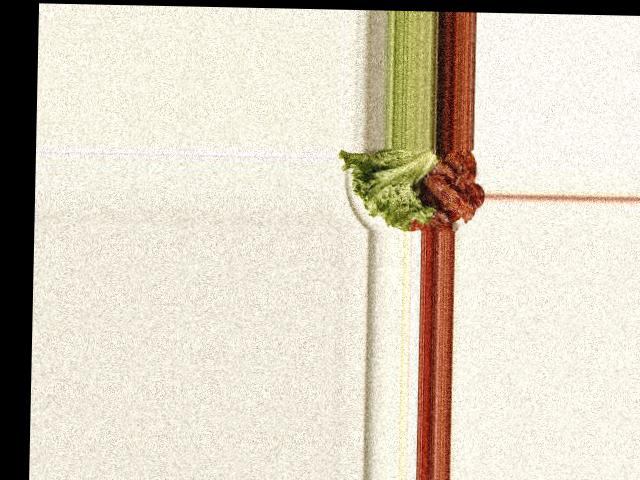lettuce: (341, 146, 436, 229)
